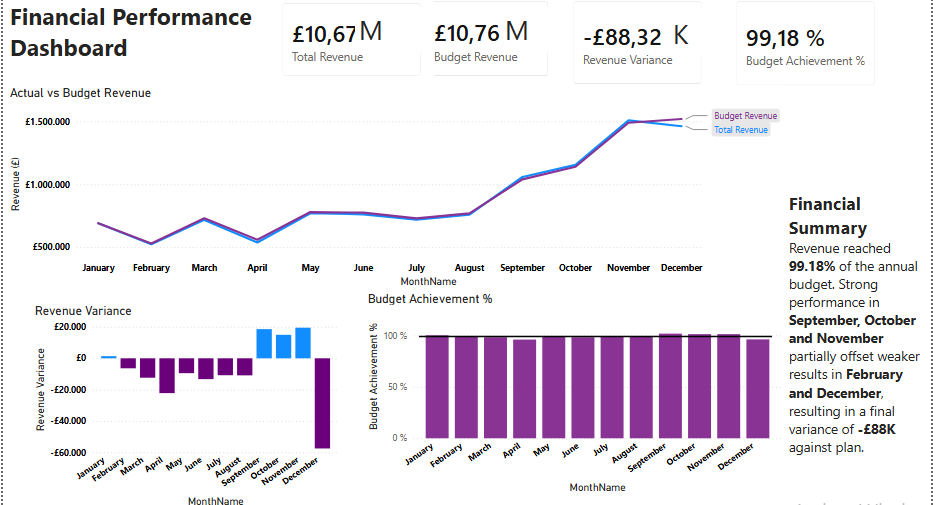

The page's visual inventory and layout, read from the dashboard file:
{"tool":"powerbi","page":{"name":"Financial Performance","canvas":[1280,720],"ordinal":1},"visuals":[{"type":"cardVisual","fields":{"Data":["Measures (2).Revenue Variance"]},"box":[770.2,0,211.5,148.4],"z":0},{"type":"cardVisual","fields":{"Data":["Measures (2).Budget Revenue"]},"box":[564.1,0,205.5,137.9],"z":1000},{"type":"cardVisual","fields":{"Data":["Measures (2).Total Revenue"]},"box":[367.7,3.2,225.7,134.2],"z":2000},{"type":"cardVisual","fields":{"Data":["Measures (2).Budget Achievement %"]},"box":[994.3,0,225.7,150],"z":3000},{"type":"lineChart","title":"Actual vs Budget Revenue","fields":{"Y":["Measures (2).Total Revenue","Measures (2).Budget Revenue"],"Category":["budget_2011.MonthName"]},"box":[4.1,132.4,1074.5,284.1],"z":4000},{"type":"textbox","box":[485.5,24.8,97.9,63.4],"z":5000},{"type":"textbox","box":[1106.4,359.9,71,63.1],"z":6000},{"type":"textbox","box":[686.9,24.8,82.8,62.1],"z":7000},{"type":"clusteredColumnChart","title":"Revenue Variance ","fields":{"Category":["budget_2011.MonthName"],"Y":["Measures (2).Revenue Variance"]},"box":[38.6,432.9,428.6,287.1],"z":8000},{"type":"clusteredColumnChart","title":"Budget Achievement % ","fields":{"Category":["budget_2011.MonthName"],"Y":["Measures (2).Budget Achievement %"]},"box":[497.9,416.6,580.7,284.1],"z":9000},{"type":"textbox","box":[4.3,10,362.9,110],"z":10000},{"type":"textbox","box":[918.6,30,75.7,58.6],"z":11000},{"type":"shape","box":[573.8,342.1,486.9,274.5],"z":12000},{"type":"textbox","box":[1078.6,274.5,201.4,426.2],"z":13000}]}

Visuals, with their boxes on the page's 1280x720 design canvas (x1, y1, x2, y2). These are canvas units, not pixel positions in the 947x505 screenshot, which may show the page scaled, cropped or inside an application window:
cardVisual - Measures (2).Revenue Variance: 770 0 982 148
cardVisual - Measures (2).Budget Revenue: 564 0 770 138
cardVisual - Measures (2).Total Revenue: 368 3 593 137
cardVisual - Measures (2).Budget Achievement %: 994 0 1220 150
"Actual vs Budget Revenue" lineChart: 4 132 1079 416
textbox: 486 25 583 88
textbox: 1106 360 1177 423
textbox: 687 25 770 87
"Revenue Variance " clusteredColumnChart: 39 433 467 720
"Budget Achievement % " clusteredColumnChart: 498 417 1079 701
textbox: 4 10 367 120
textbox: 919 30 994 89
shape: 574 342 1061 617
textbox: 1079 274 1280 701
